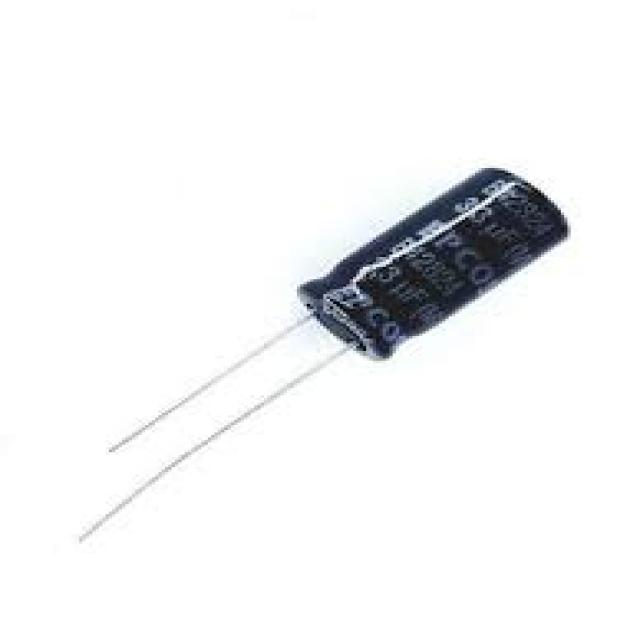Capacitor: (79, 168, 571, 544)
